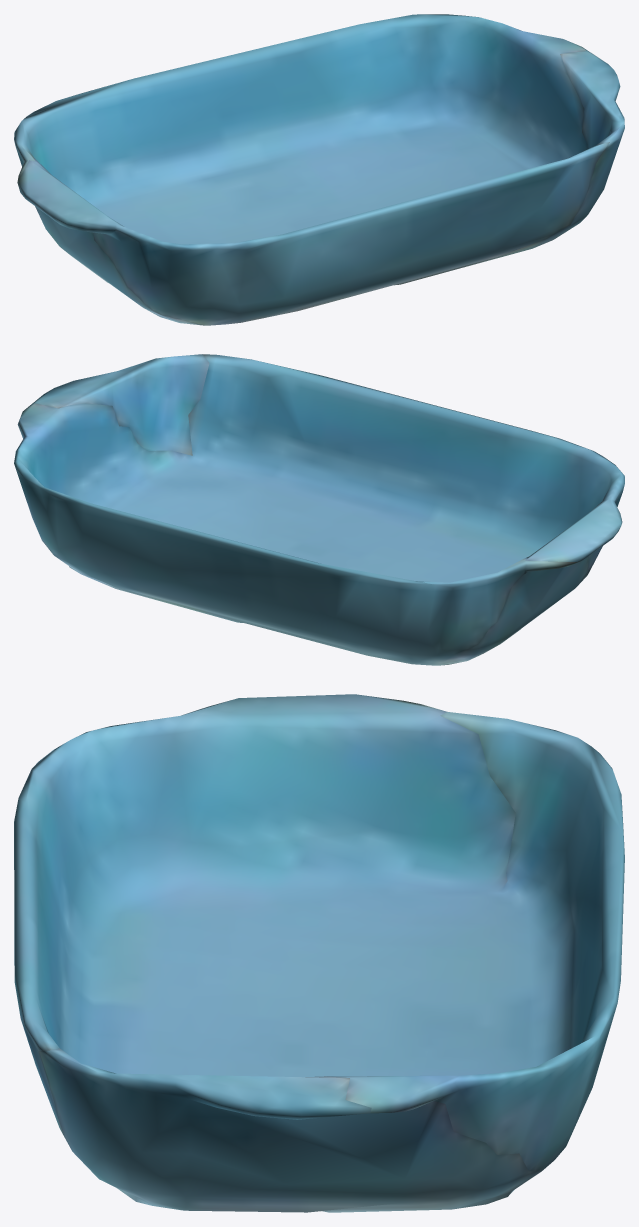
Rendered from Corningware_CW_by_Corningware_3qt_Oblong_Casserole_Dish_Blue-medium.glb.
3 views of the same model, one above another, from view 1: azimuth 30°, elevation 25°; view 2: azimuth 150°, elevation 25°; view 3: azimuth 270°, elevation 25° (orthographic). The views are drawn at different scales.
Visible parts, largest first — view 1: Corningware_CW_by_Corningware_3qt_Oblong_Casserole_Dish_Blue; view 2: Corningware_CW_by_Corningware_3qt_Oblong_Casserole_Dish_Blue; view 3: Corningware_CW_by_Corningware_3qt_Oblong_Casserole_Dish_Blue.
Part boxes in pixels (box(x1,y1,x2,y2)): Corningware_CW_by_Corningware_3qt_Oblong_Casserole_Dish_Blue: box(14, 14, 624, 325); Corningware_CW_by_Corningware_3qt_Oblong_Casserole_Dish_Blue: box(14, 354, 624, 665); Corningware_CW_by_Corningware_3qt_Oblong_Casserole_Dish_Blue: box(14, 694, 624, 1212).
Bounding box in the file's own units: 0.3679 × 0.0715 × 0.2226.
1 material, 1 textured.
